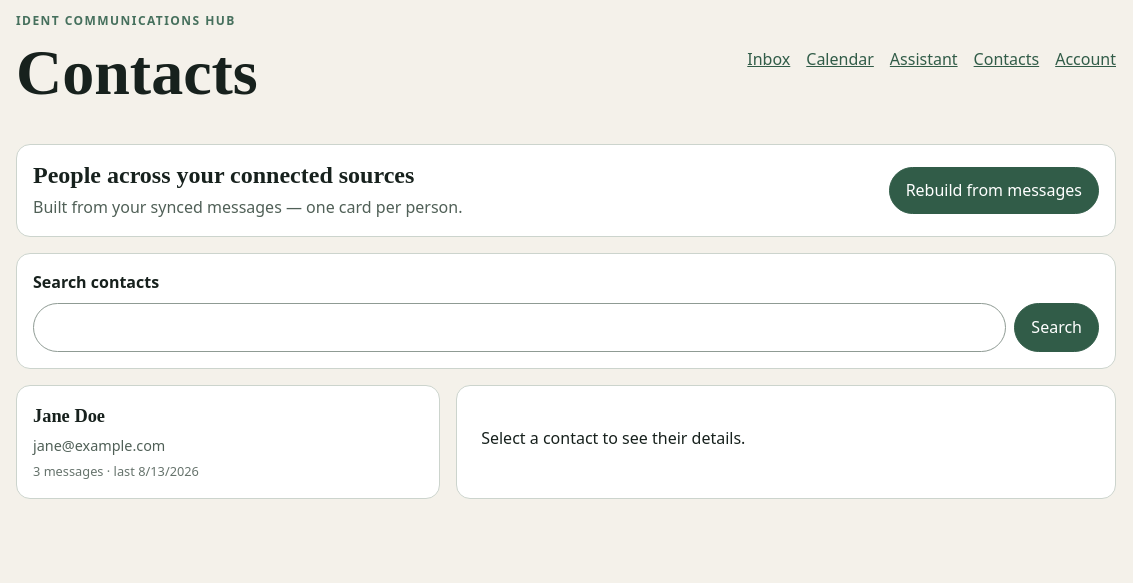
Test: ContactsClient › reports how many contacts a successful rebuild produced
Check: the text "Jane Doe" is shown, box [33,406,105,426]
Click the button "Rebuild from messages" at {"x": 994, "y": 190}, box [889,167,1099,214]
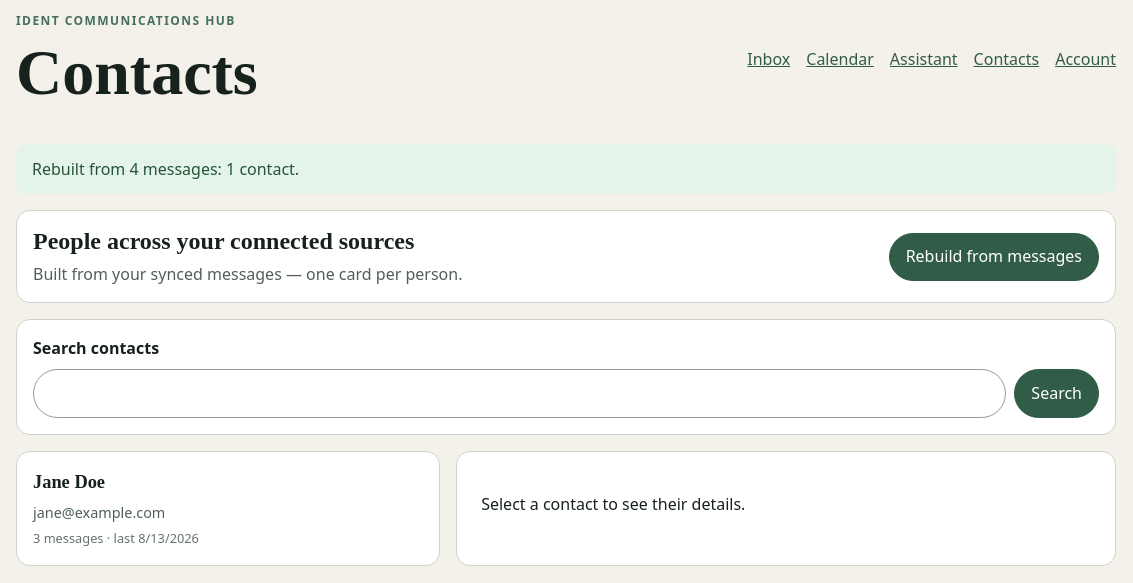
Check: the message reads "Rebuilt from 4 messages: 1 contact.", box [32,158,299,180]
